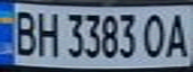3: (118, 10, 142, 60), (60, 9, 84, 58), (81, 10, 103, 60)
8: (100, 10, 121, 60)
A: (163, 9, 193, 60)
B: (9, 7, 39, 57)
H: (33, 8, 60, 59)
O: (139, 10, 169, 60)
